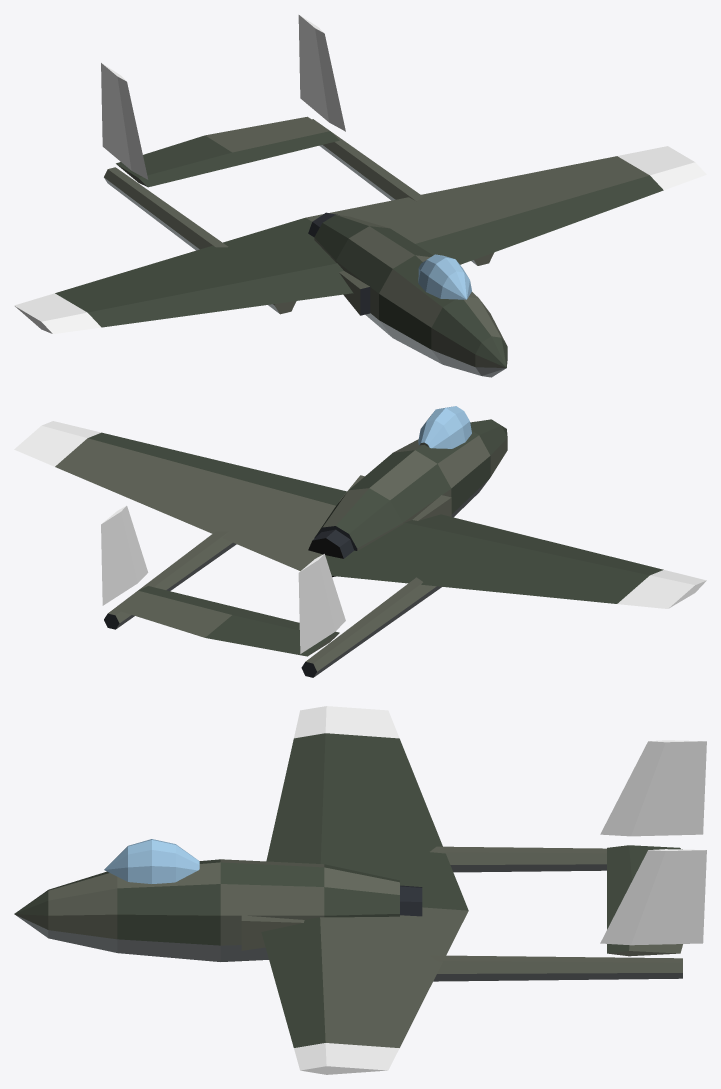
The model's file is vampire_lod.glb.
3 views of the same model, one above another, from view 1: azimuth 30°, elevation 25°; view 2: azimuth 150°, elevation 25°; view 3: azimuth 270°, elevation 25° (orthographic). The views are drawn at different scales.
Parts seen in each view (by area): view 1: body; view 2: body; view 3: body.
Part boxes in pixels (left/top/right/bottom): body: left=14, top=15, right=706, bottom=377; body: left=14, top=406, right=706, bottom=677; body: left=14, top=706, right=706, bottom=1074.
Size of the model in its own units: 11.58 by 2.45 by 9.42.
